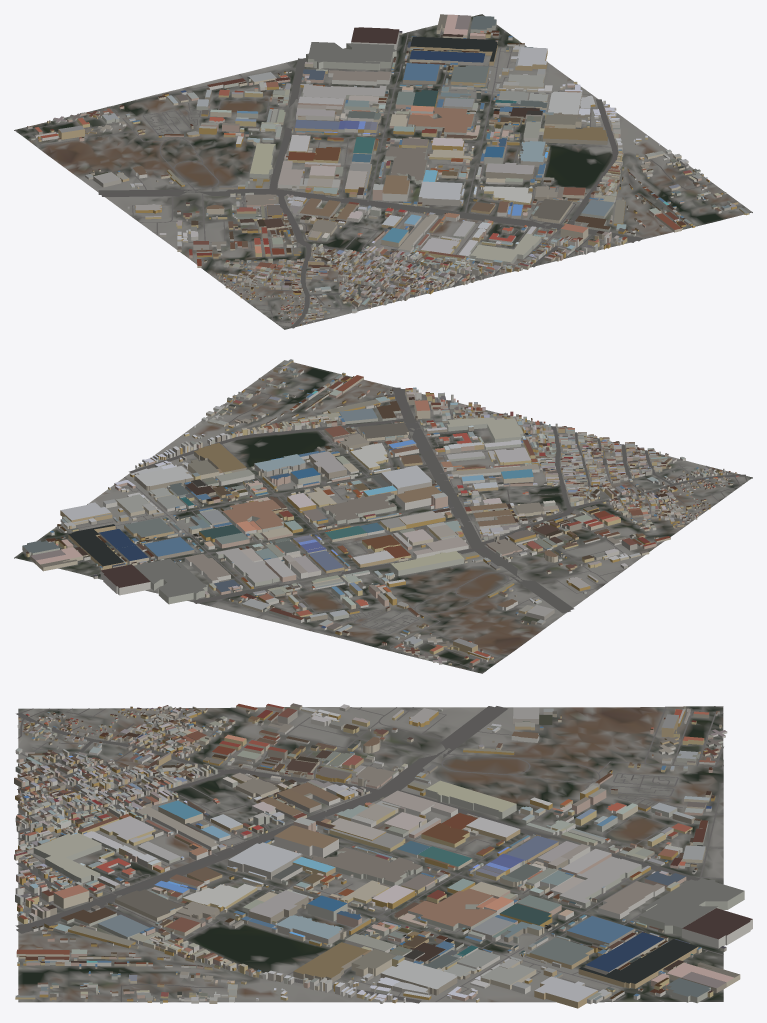
3 renders of one model, top to bottom at view 1: azimuth 30°, elevation 25°; view 2: azimuth 150°, elevation 25°; view 3: azimuth 270°, elevation 25°, orthographic. The views are drawn at different scales.
Visible parts, largest first — view 1: buildings, ground, roads; view 2: buildings, ground, roads; view 3: buildings, ground, roads.
Part boxes in pixels (<box>): buildings: <box>27,14,749,325</box>; ground: <box>14,14,752,329</box>; roads: <box>15,28,731,328</box>; buildings: <box>22,359,739,669</box>; ground: <box>14,360,752,673</box>; roads: <box>37,365,747,673</box>; buildings: <box>14,703,752,1008</box>; ground: <box>18,706,723,1002</box>; roads: <box>15,706,723,1003</box>.
Size of the model in its own units: 1436 by 39.38 by 1468.
